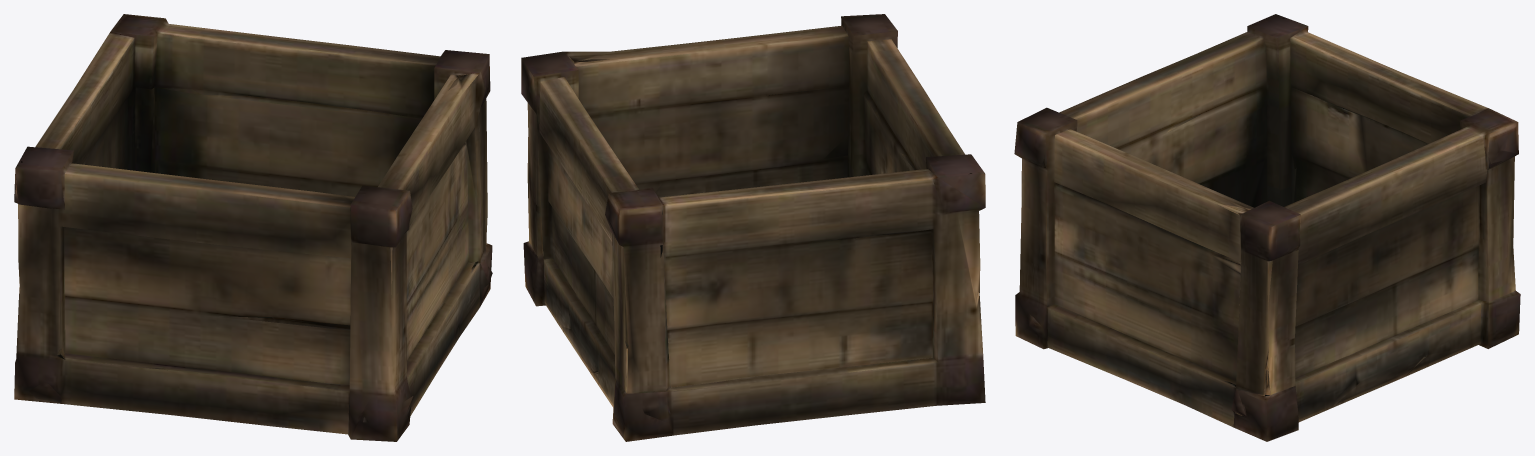
Rendered from crate-3k.glb.
3 views of the same model, side by side, from view 1: azimuth 30°, elevation 25°; view 2: azimuth 150°, elevation 25°; view 3: azimuth 270°, elevation 25° (orthographic). The views are drawn at different scales.
Visible parts, largest first — view 1: LOW; view 2: LOW; view 3: LOW.
Boxes of the visible parts, <box> form: LOW: <box>14,14,492,441</box>; LOW: <box>521,14,985,441</box>; LOW: <box>1014,14,1520,441</box>.
Bounding box in the file's own units: 1.01 × 0.484 × 1.01.
1 material, 1 textured.
